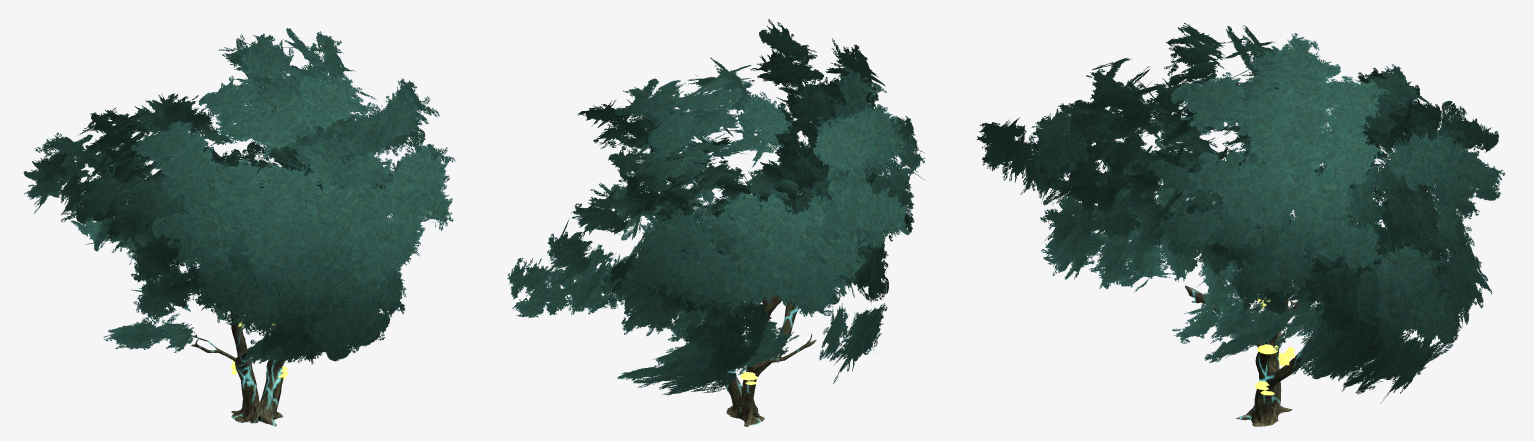
The model's file is Arvore_B.fbx.
3 views of the same model, side by side, from view 1: azimuth 30°, elevation 25°; view 2: azimuth 150°, elevation 25°; view 3: azimuth 270°, elevation 25° (orthographic). The views are drawn at different scales.
Visible parts, largest first — view 1: Arvore_B_LOD0; view 2: Arvore_B_LOD0; view 3: Arvore_B_LOD0.
Boxes of the visible parts, x1,y1,x2,y2 form: Arvore_B_LOD0: [23, 28, 455, 426]; Arvore_B_LOD0: [507, 19, 924, 426]; Arvore_B_LOD0: [977, 23, 1504, 426].
Size of what is drawn, in the model's own units: 11.96 by 10.96 by 14.28.
